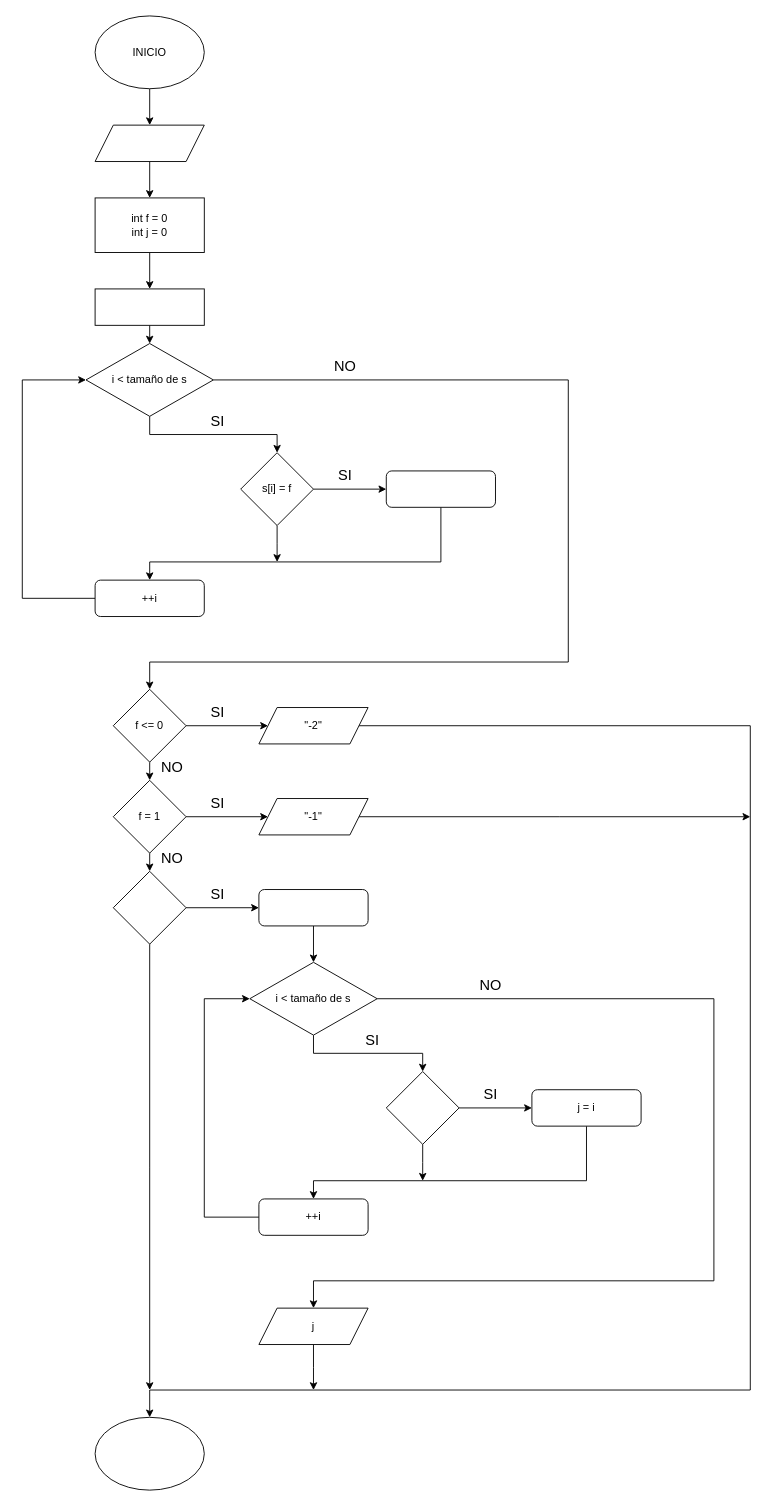
The diagram is 774 pixels wide and 1506 high, and some of its shapes have lost their labels. Each missing label, with the centre of its shape:
"++f" belongs at (x=440, y=488).
"f = 2" belongs at (x=149, y=907).
"FIN" belongs at (x=149, y=1453).
"int i = 0" belongs at (x=313, y=907).
"int i = 1" belongs at (x=149, y=306).
"s[i] = 'f'" belongs at (x=422, y=1107).
"string s" belongs at (x=149, y=143).
